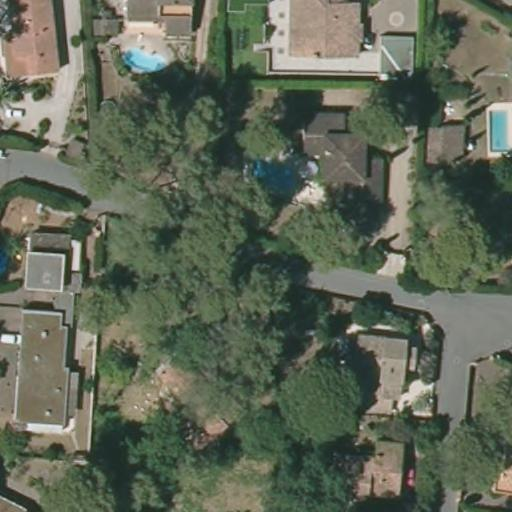pool: (242, 144, 305, 198), (111, 39, 176, 79), (481, 105, 511, 157)
